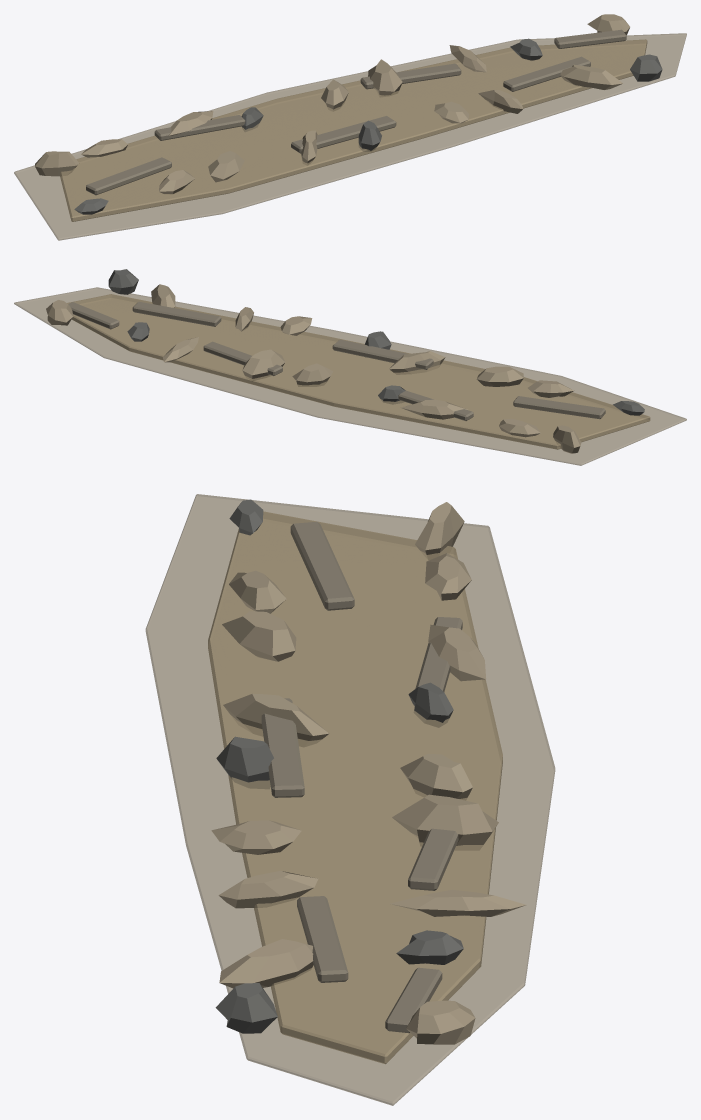
Rendered from road-apron-breakup.glb.
3 renders of one model, top to bottom at view 1: azimuth 30°, elevation 25°; view 2: azimuth 150°, elevation 25°; view 3: azimuth 270°, elevation 25°, orthographic. The views are drawn at different scales.
Parts seen in each view (by area): view 1: road_apron_packed_bank, road_apron_outer_wash, road_apron_buried_edge_0, road_apron_buried_edge_2, road_apron_gravel_7, road_apron_buried_edge_4, road_apron_buried_edge_3, road_apron_gravel_9, road_apron_buried_edge_1, road_apron_buried_edge_5, road_apron_gravel_14, road_apron_gravel_2 (+14 smaller); view 2: road_apron_packed_bank, road_apron_outer_wash, road_apron_buried_edge_0, road_apron_buried_edge_4, road_apron_buried_edge_2, road_apron_gravel_14, road_apron_gravel_2, road_apron_gravel_11, road_apron_gravel_3, road_apron_buried_edge_3, road_apron_gravel_13, road_apron_gravel_8 (+14 smaller); view 3: road_apron_packed_bank, road_apron_outer_wash, road_apron_gravel_14, road_apron_gravel_7, road_apron_buried_edge_0, road_apron_buried_edge_4, road_apron_buried_edge_2, road_apron_gravel_3, road_apron_gravel_2, road_apron_gravel_6, road_apron_gravel_17, road_apron_gravel_15 (+13 smaller).
Boxes of the visible parts, bbox=[...] form: road_apron_packed_bank: bbox=[60, 39, 647, 221]; road_apron_outer_wash: bbox=[14, 33, 686, 240]; road_apron_buried_edge_0: bbox=[86, 157, 171, 195]; road_apron_buried_edge_2: bbox=[291, 116, 396, 153]; road_apron_gravel_7: bbox=[560, 64, 623, 89]; road_apron_buried_edge_4: bbox=[503, 56, 590, 91]; road_apron_buried_edge_3: bbox=[360, 63, 461, 89]; road_apron_gravel_9: bbox=[35, 151, 78, 176]; road_apron_buried_edge_1: bbox=[154, 115, 245, 140]; road_apron_buried_edge_5: bbox=[554, 29, 626, 48]; road_apron_gravel_14: bbox=[368, 59, 402, 97]; road_apron_gravel_2: bbox=[208, 151, 244, 182]; road_apron_packed_bank: bbox=[67, 294, 650, 449]; road_apron_outer_wash: bbox=[14, 287, 686, 465]; road_apron_buried_edge_0: bbox=[513, 396, 605, 419]; road_apron_buried_edge_4: bbox=[132, 301, 221, 326]; road_apron_buried_edge_2: bbox=[332, 339, 433, 369]; road_apron_gravel_14: bbox=[242, 349, 285, 380]; road_apron_gravel_2: bbox=[476, 366, 523, 386]; road_apron_gravel_11: bbox=[401, 399, 467, 419]; road_apron_gravel_3: bbox=[389, 351, 445, 374]; road_apron_buried_edge_3: bbox=[203, 341, 282, 375]; road_apron_gravel_13: bbox=[292, 363, 332, 386]; road_apron_gravel_8: bbox=[108, 269, 138, 294]; road_apron_packed_bank: bbox=[208, 511, 502, 1064]; road_apron_outer_wash: bbox=[145, 494, 555, 1105]; road_apron_gravel_14: bbox=[392, 794, 498, 850]; road_apron_gravel_7: bbox=[219, 939, 313, 988]; road_apron_buried_edge_0: bbox=[290, 521, 354, 610]; road_apron_buried_edge_4: bbox=[297, 896, 348, 982]; road_apron_buried_edge_2: bbox=[261, 698, 304, 797]; road_apron_gravel_3: bbox=[223, 693, 329, 746]; road_apron_gravel_2: bbox=[222, 611, 296, 661]; road_apron_gravel_6: bbox=[218, 871, 318, 908]; road_apron_gravel_17: bbox=[406, 1000, 475, 1044]; road_apron_gravel_15: bbox=[389, 889, 526, 916].
Bounding box in the file's own units: 5.69 × 0.2225 × 1.62.
